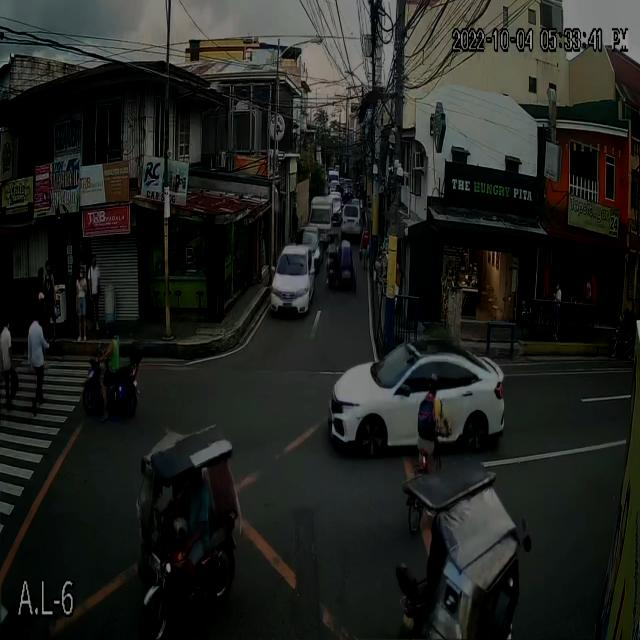Full-Faced: (103, 318, 119, 339)
